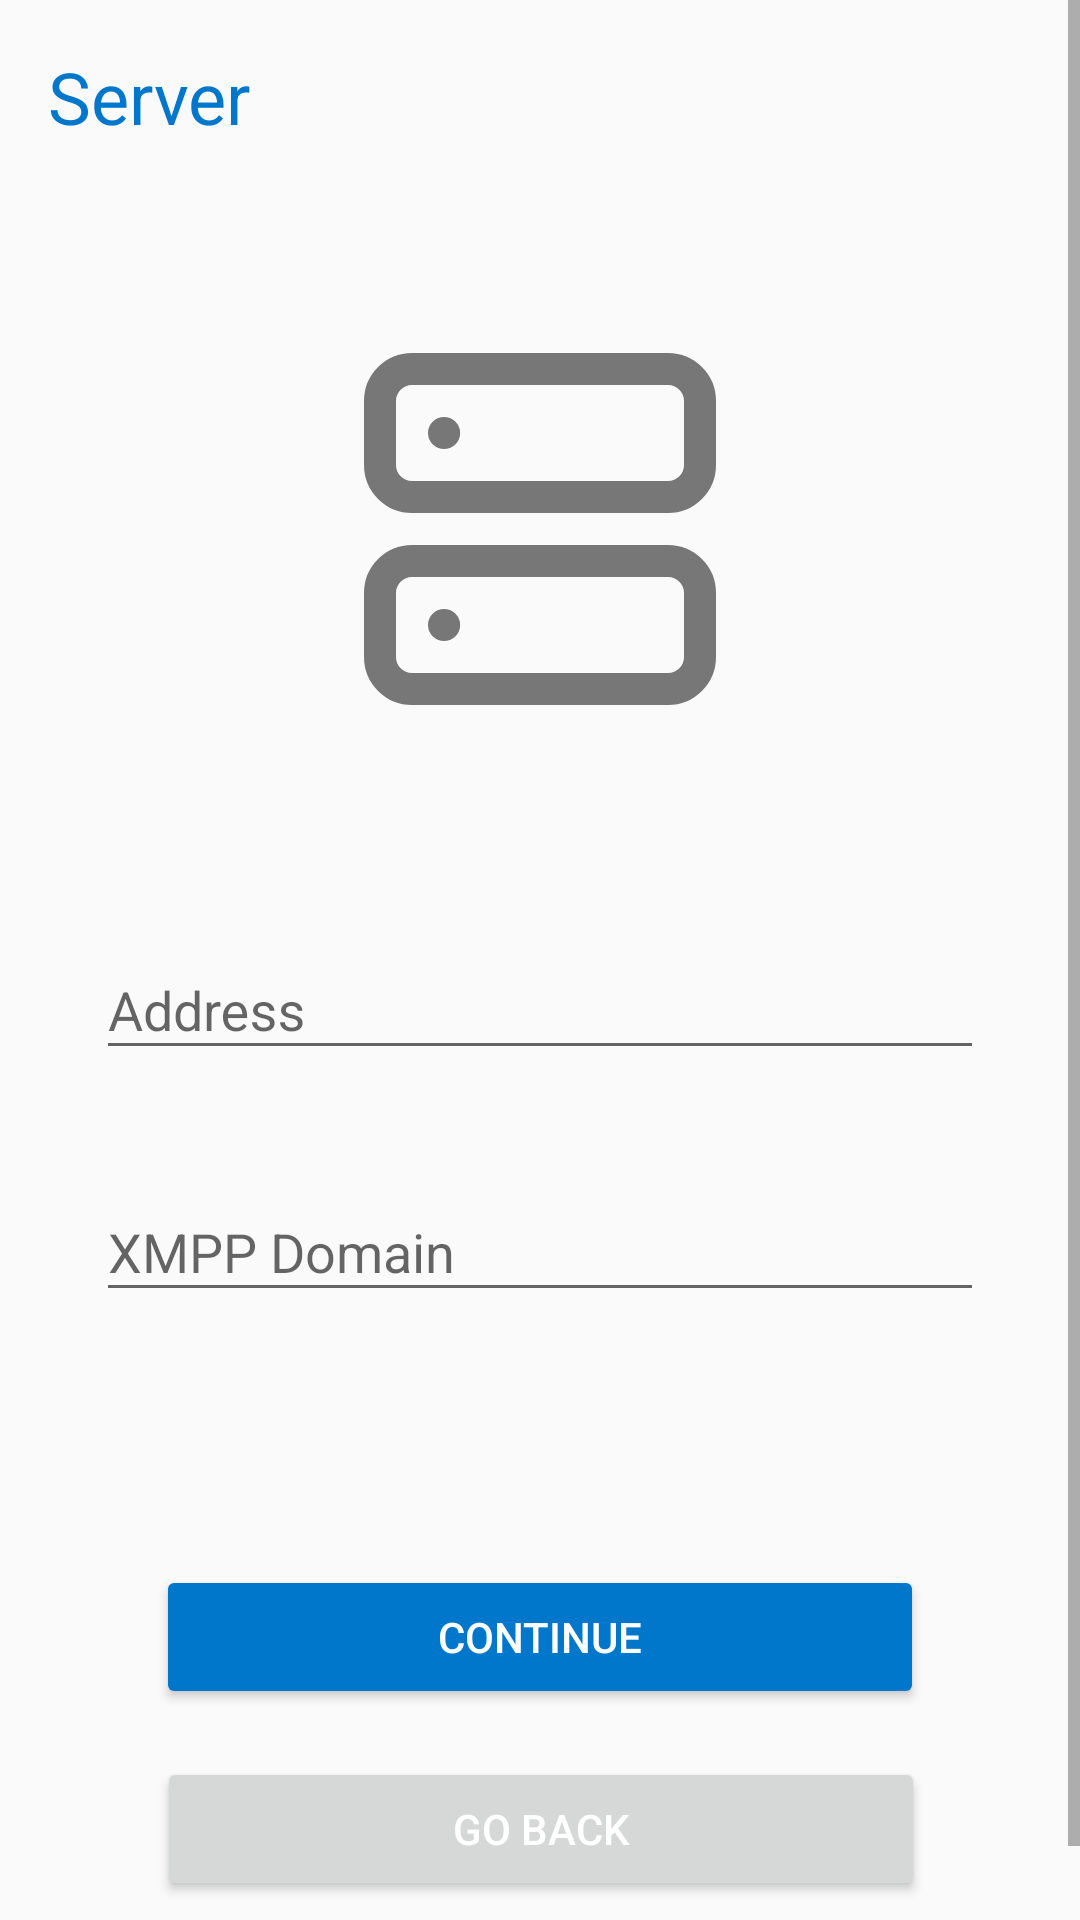

Icon click points for this 1080x1920 phone screenshot, format [x,y]:
server: [540,529]
